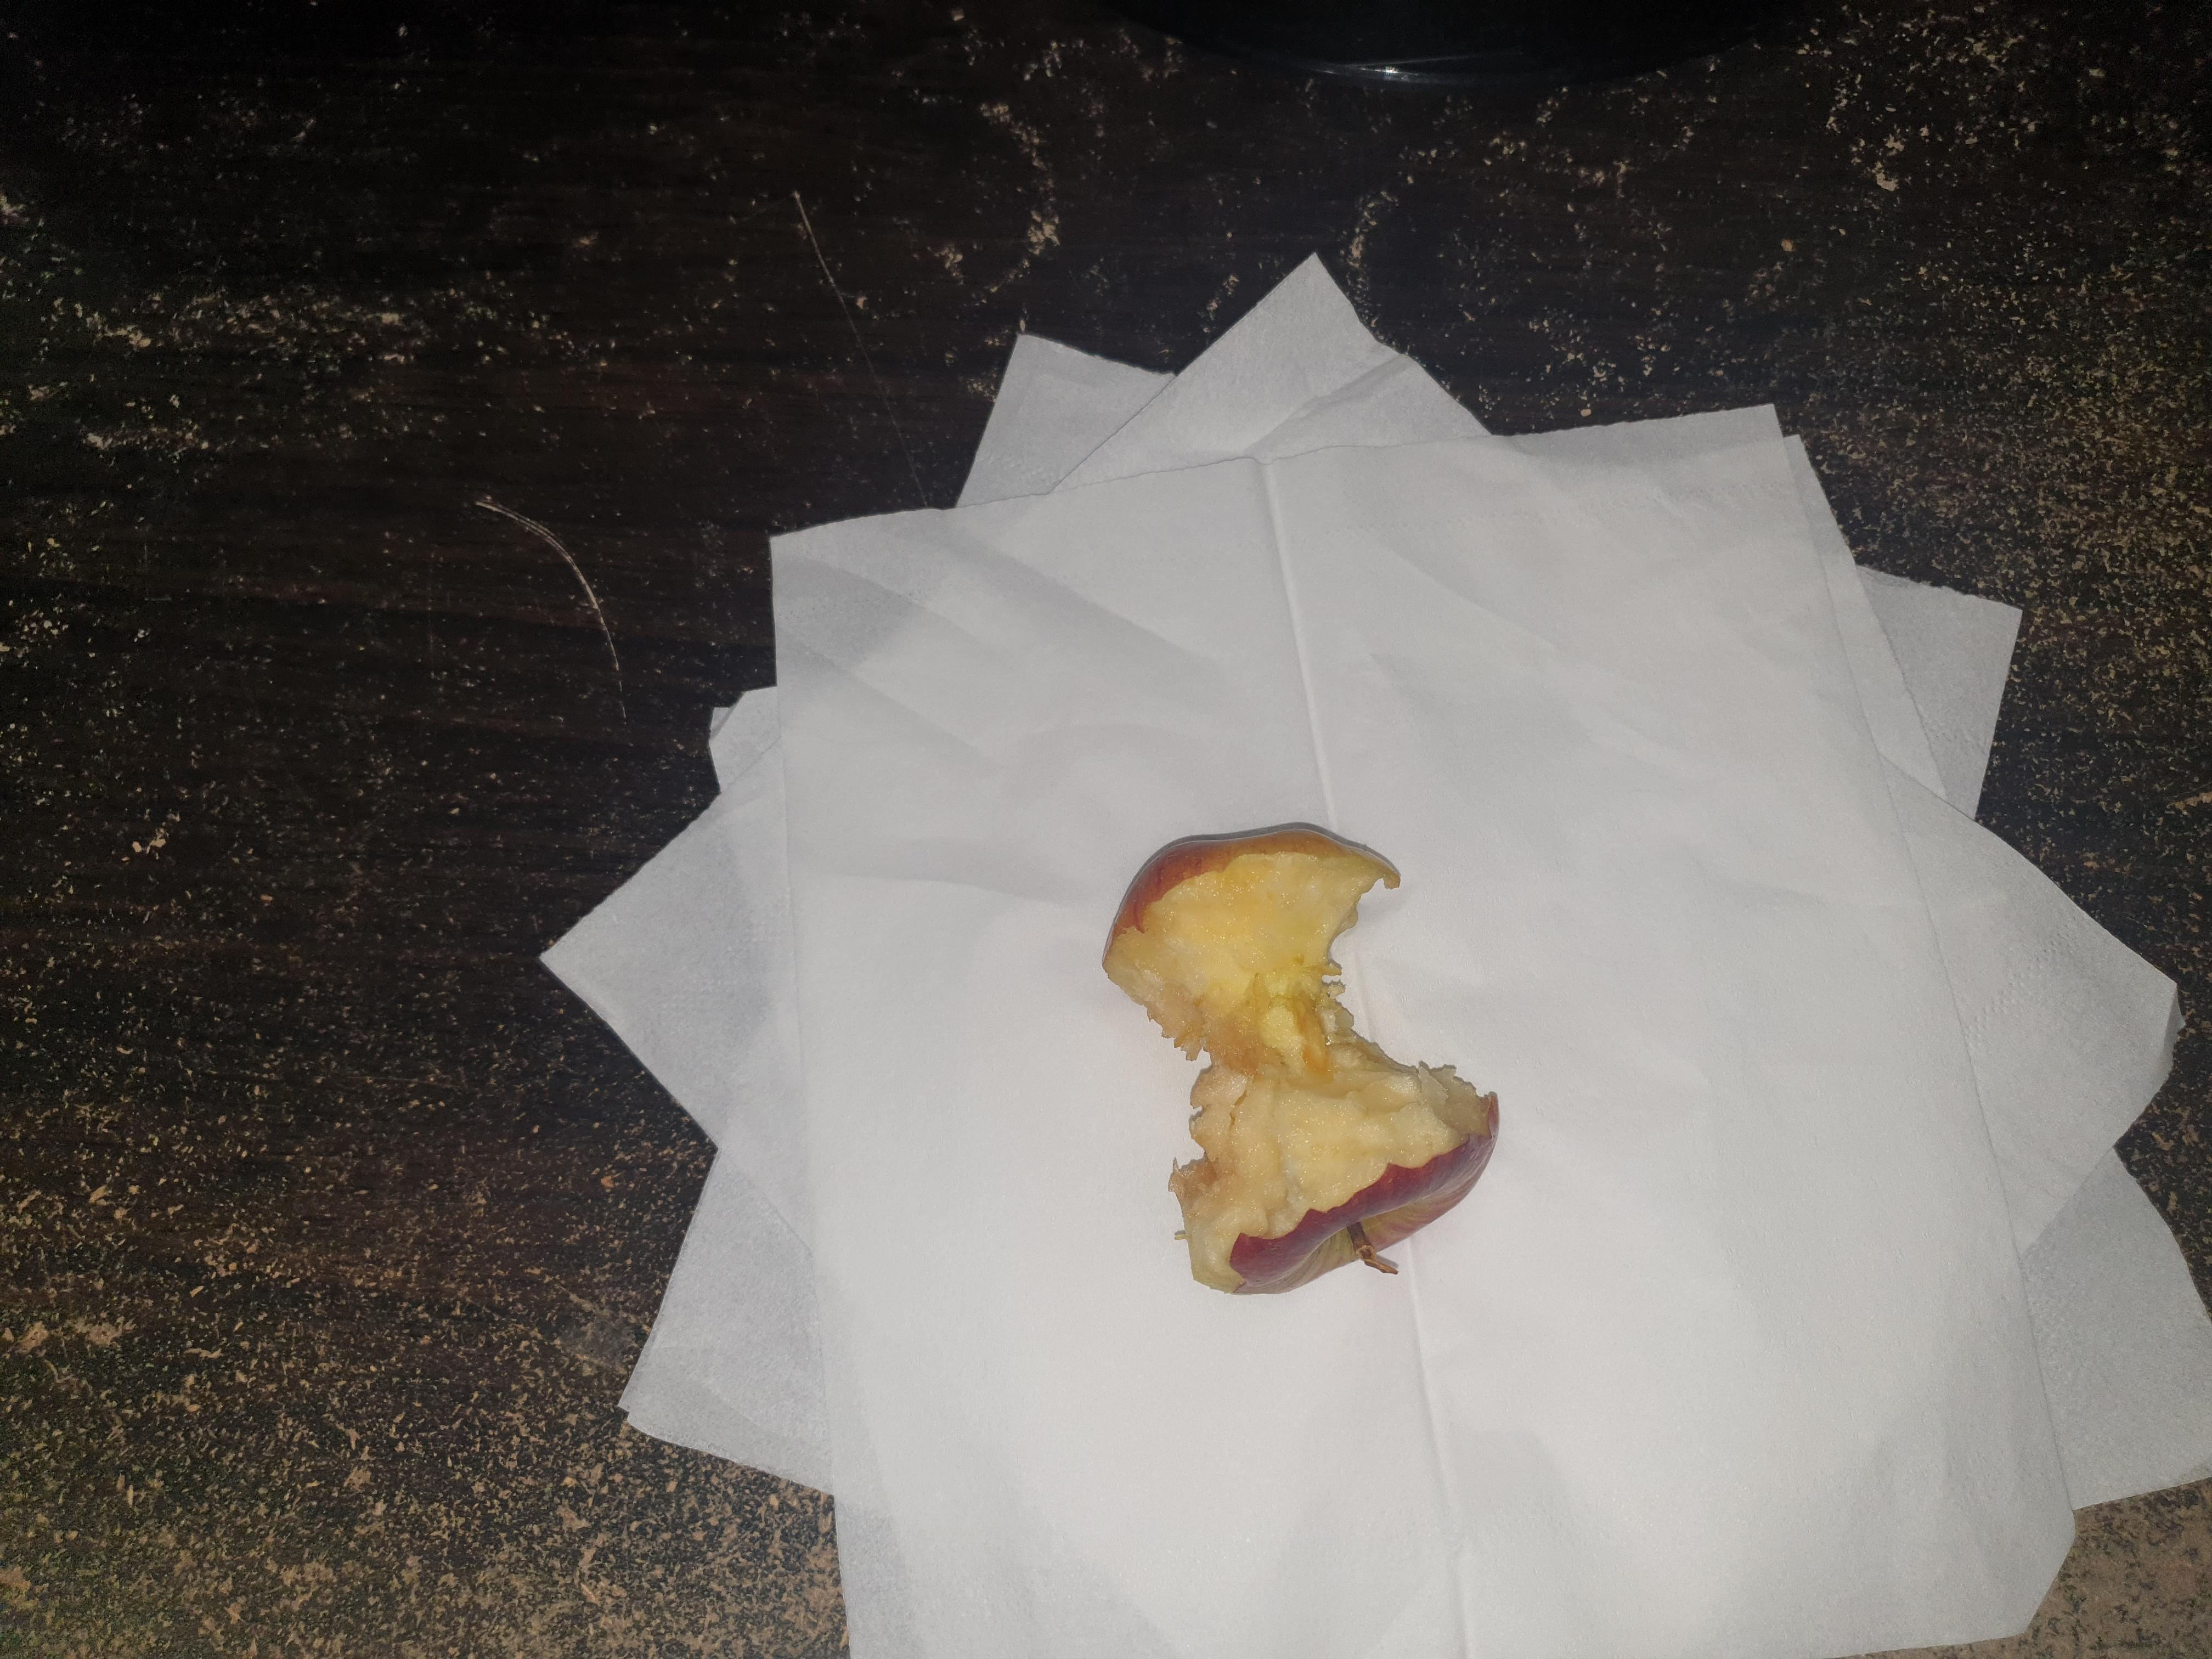Apple: (1099, 810, 1529, 1316)
